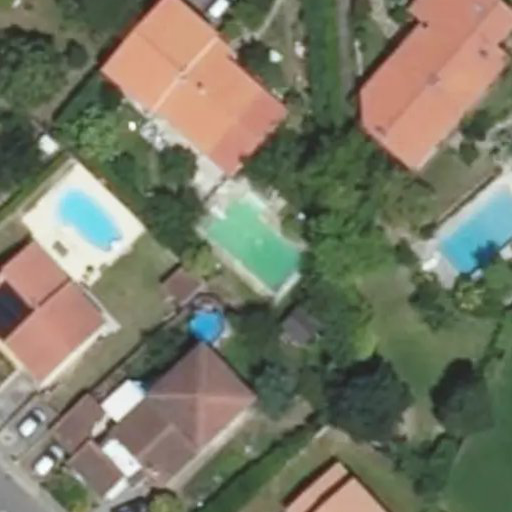pool: (196, 184, 313, 296), (423, 173, 512, 277), (45, 183, 128, 258), (184, 308, 227, 344)
